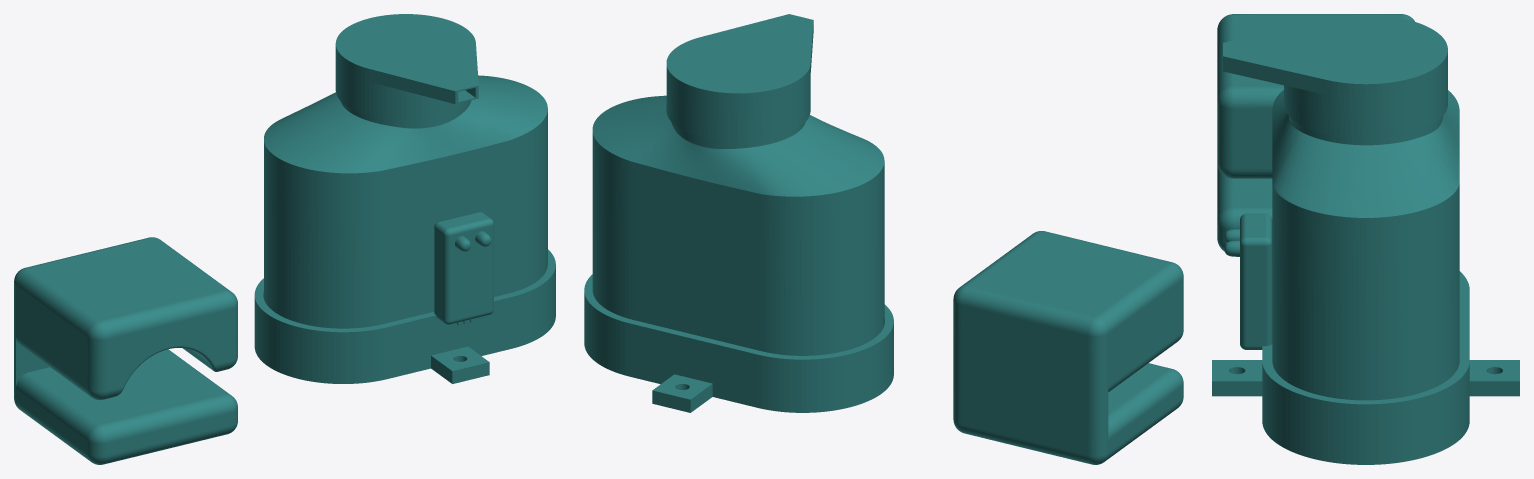
Rendered from medic.dae.
The picture shows the model from 3 angles, left to right: view 1: azimuth 30°, elevation 25°; view 2: azimuth 150°, elevation 25°; view 3: azimuth 270°, elevation 25°; orthographic projection. The views are drawn at different scales.
Parts seen in each view (by area): view 1: Har Medic Parts; view 2: Har Medic Parts; view 3: Har Medic Parts.
Part boxes in pixels (x1,y1,x2,y2): Har Medic Parts: [14, 14, 555, 464]; Har Medic Parts: [584, 14, 1183, 464]; Har Medic Parts: [1212, 14, 1519, 464].
Size of the model in its own units: 0.207 by 0.092 by 0.112.
